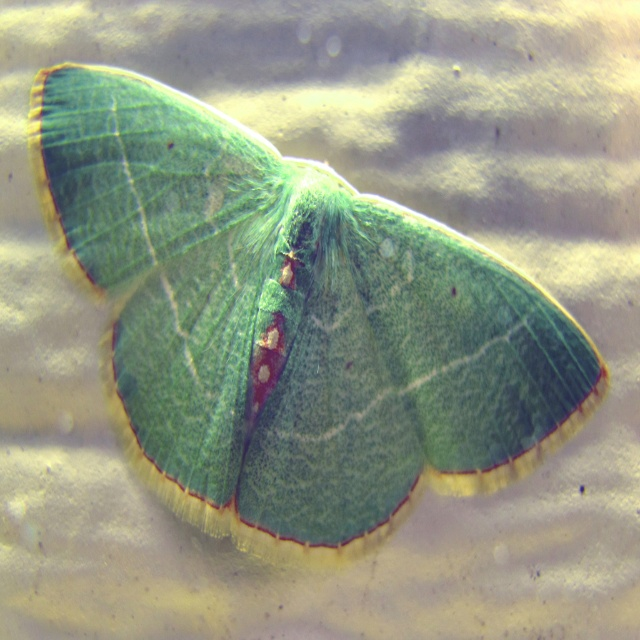Butterfly: (27, 63, 609, 570)
